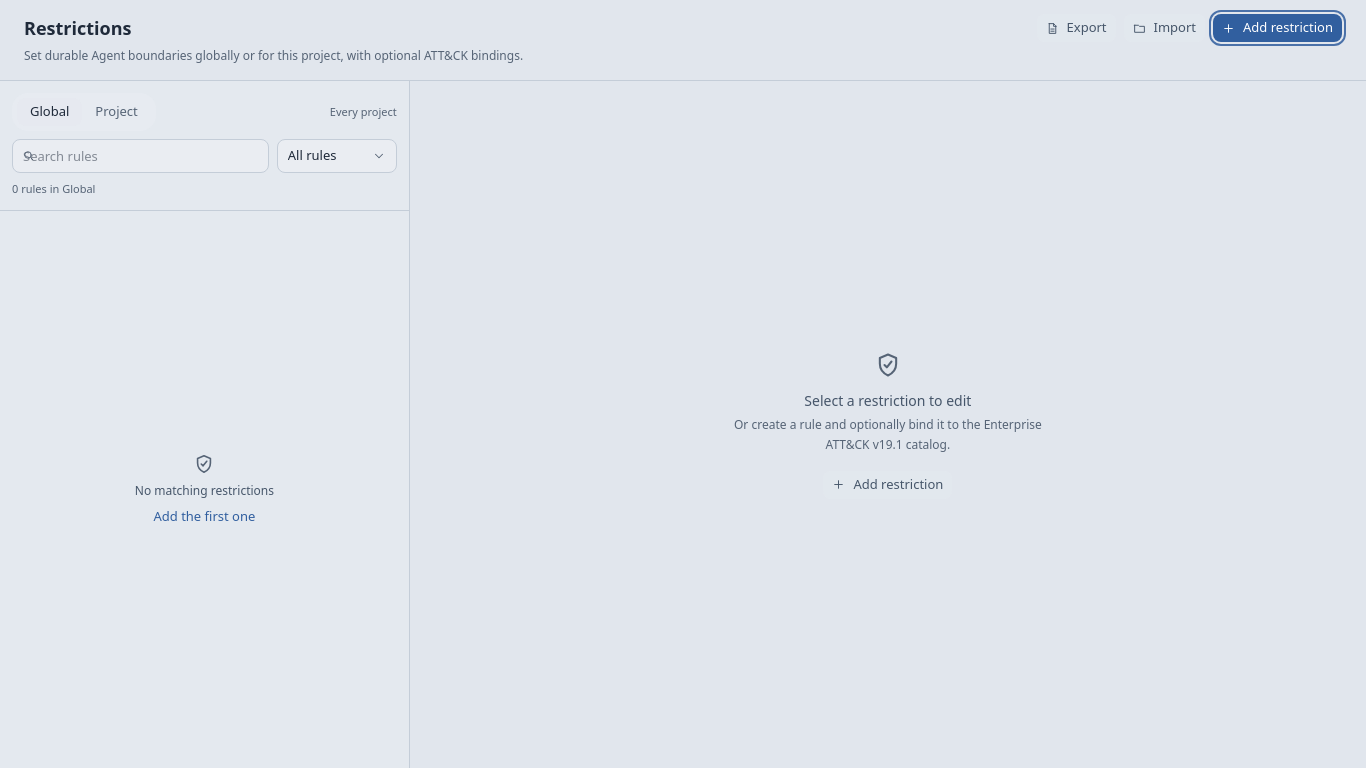
AgentInstructionsSettings restriction editor › closes from the inline action row and restores focus to the opening control
Click the 1st button "Add restriction" at (1278, 28), box [1213,14,1342,42]
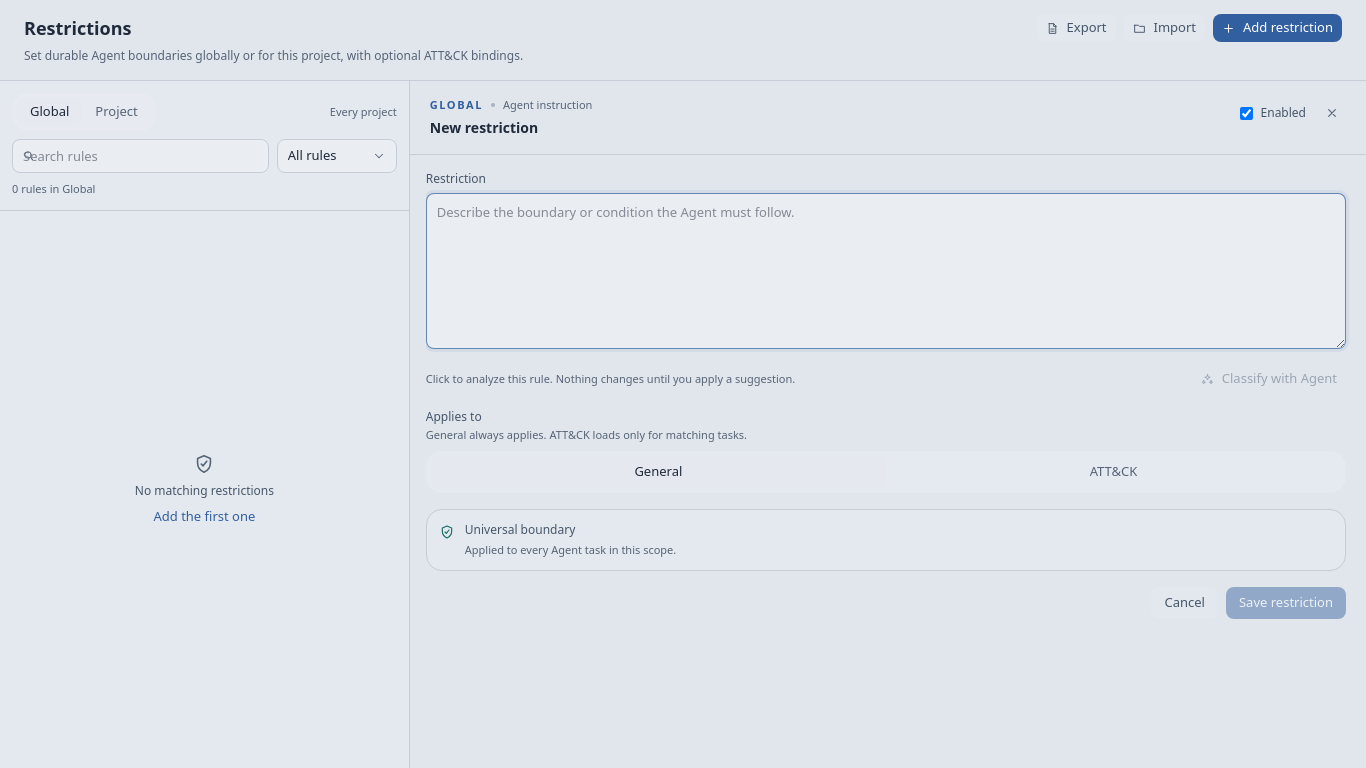
Click the button "Cancel" at (1185, 603), box [1152,587,1218,619]
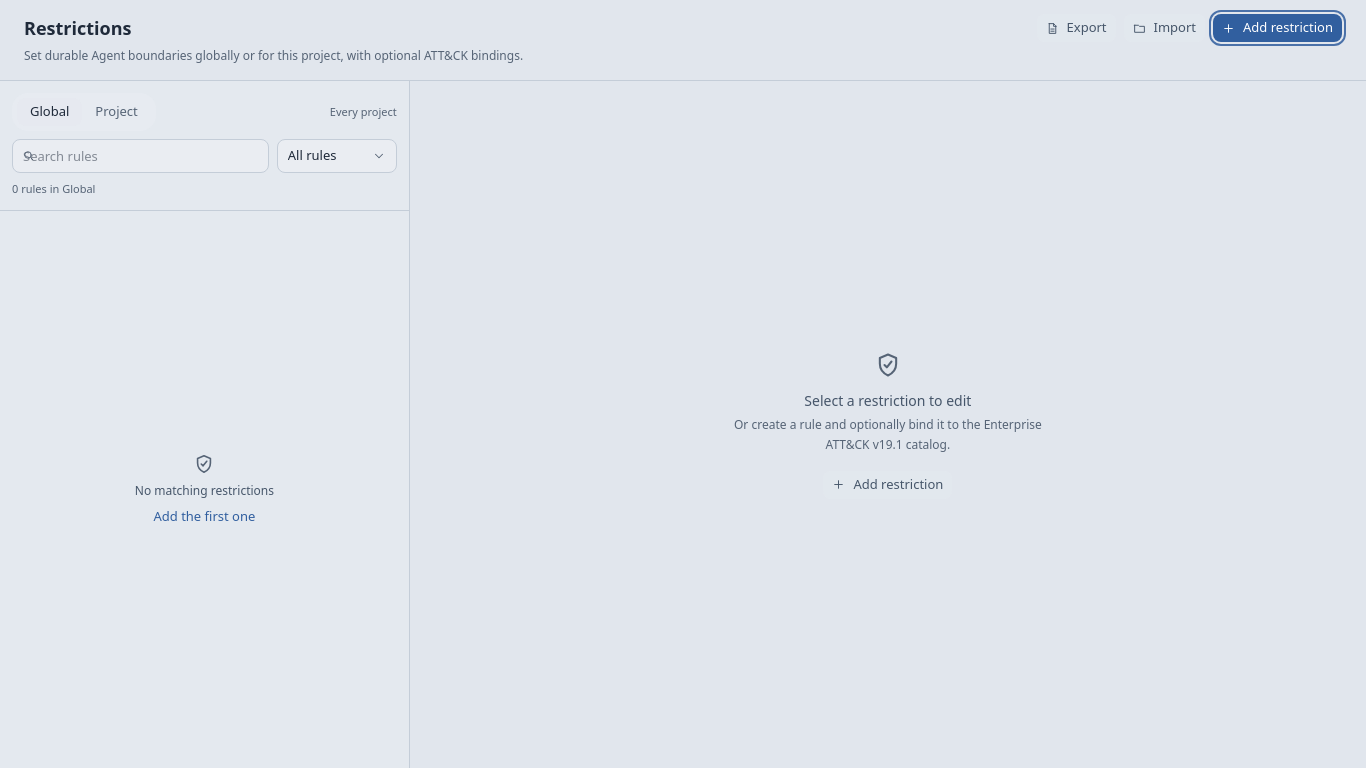
Expected: the element with test id "restriction-editor-pane" is gone
